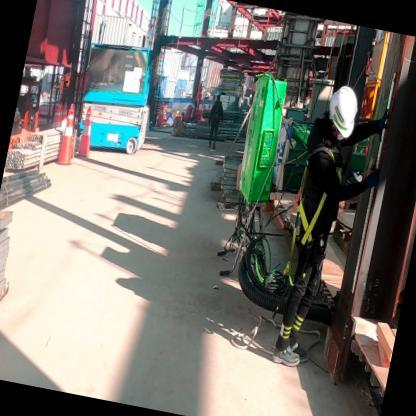Helmet: (323, 72, 369, 142)
safety-shoe: (264, 340, 305, 379)
